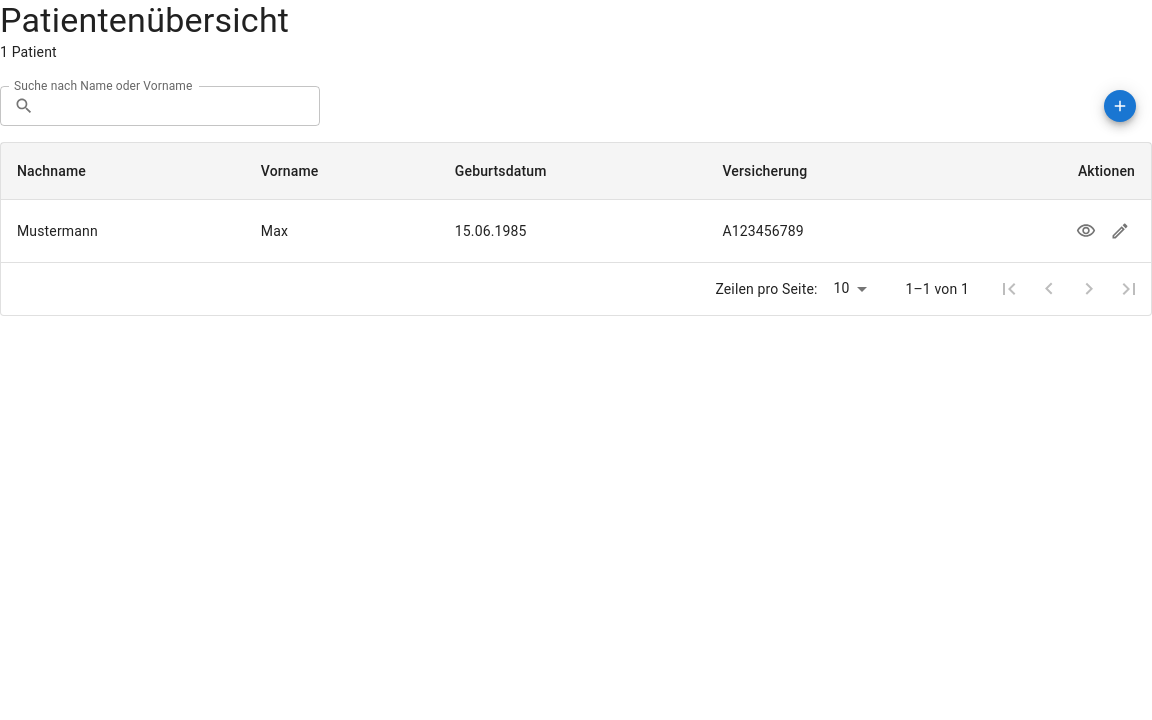
it: Overview › Bearbeiten › zeigt Feldfehler bei 422 direkt am betroffenen Feld und behaelt die Eingaben
Click the button named "Patient bearbeiten" at (1120, 231), box [1105, 216, 1135, 246]
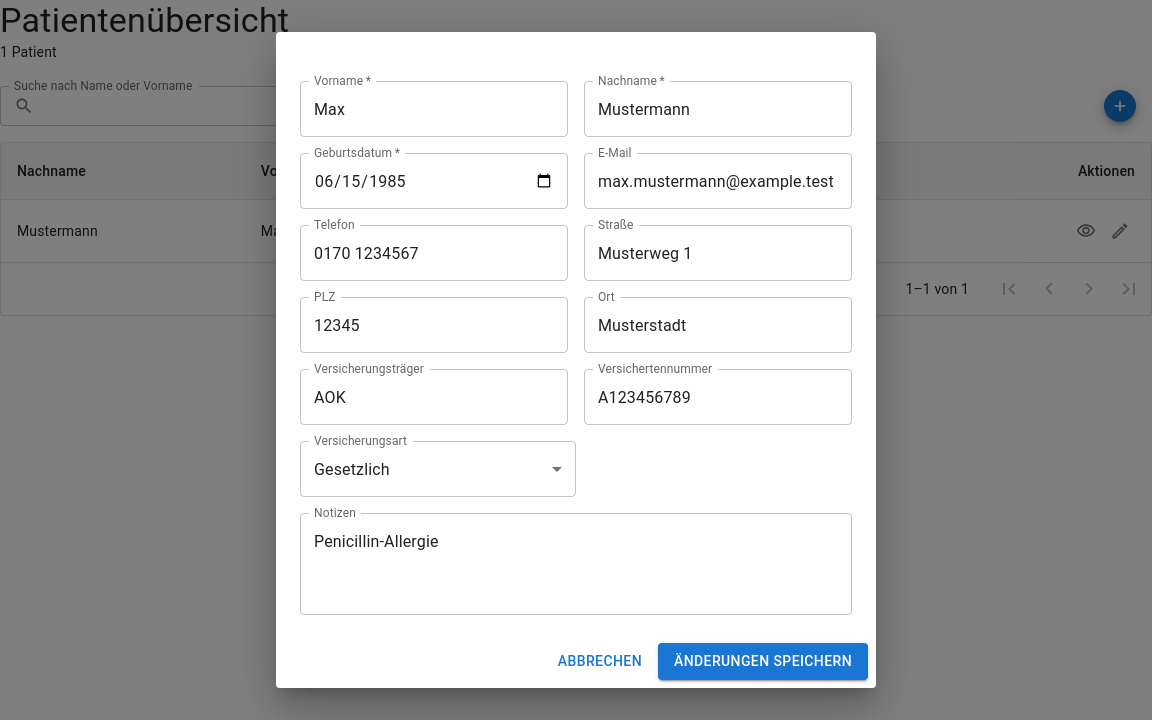
Now the field showing "max.mustermann@example.test" is shown, box [584, 153, 852, 209]
Click the button "Änderungen speichern" at (763, 661), box [658, 643, 868, 680]
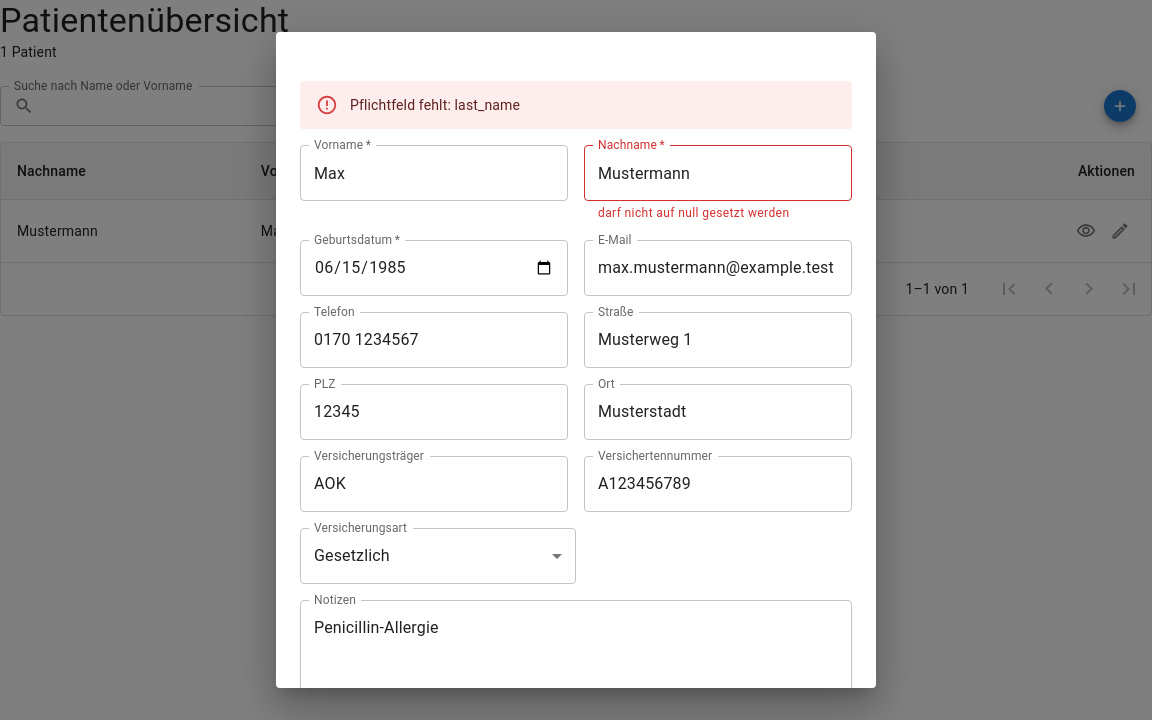
Now the dialog is shown, box [276, 32, 876, 688]
Now the text "darf nicht auf null gesetzt werden" is shown, box [598, 206, 789, 220]
Now the text "Pflichtfeld fehlt: last_name" is shown, box [350, 97, 520, 113]
